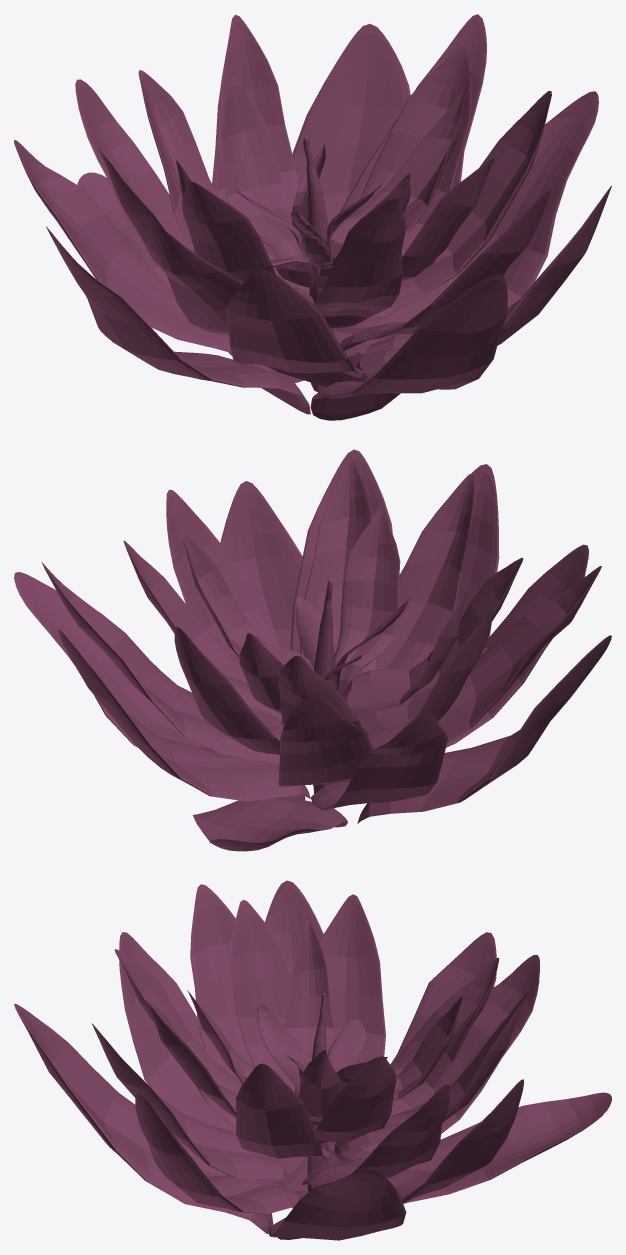
File: HostaPlant.fbx
The picture shows the model from 3 angles, top to bottom: view 1: azimuth 30°, elevation 25°; view 2: azimuth 150°, elevation 25°; view 3: azimuth 270°, elevation 25°; orthographic projection. The views are drawn at different scales.
Visible parts, largest first — view 1: HostaPLant; view 2: HostaPLant; view 3: HostaPLant.
Boxes of the visible parts, left/top/right/bottom form: HostaPLant: left=14, top=14, right=611, bottom=420; HostaPLant: left=14, top=449, right=611, bottom=851; HostaPLant: left=14, top=880, right=611, bottom=1240.
Bounding box in the file's own units: 110 × 52.68 × 111.
